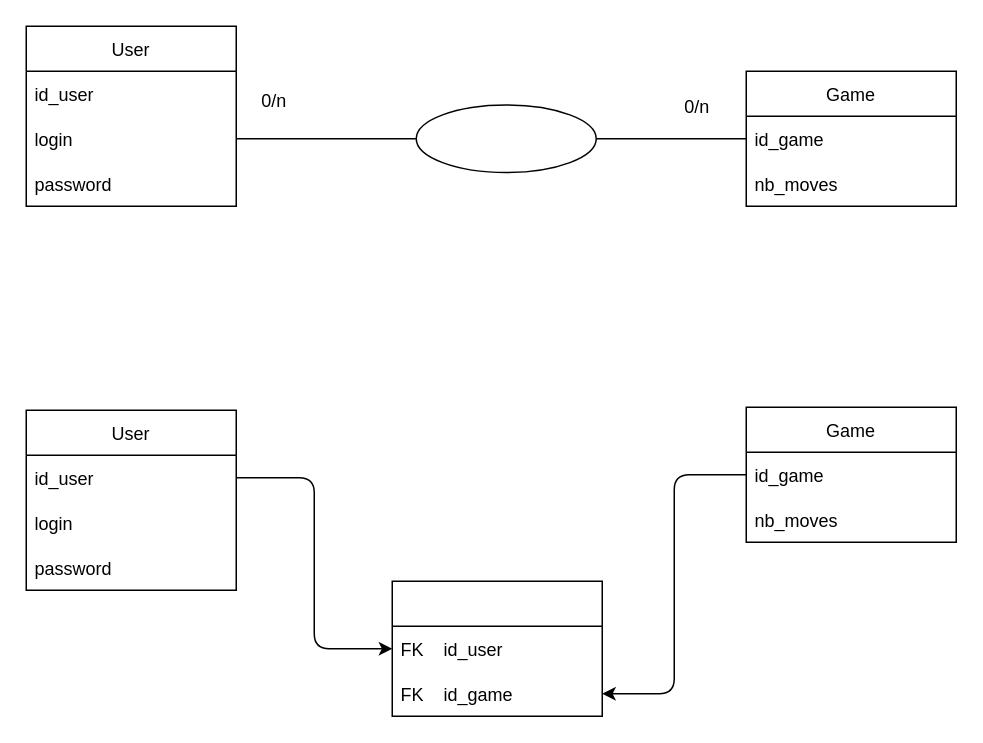
Some shapes in this 983 by 743 pixel diagram are drawn without their labels. The shapes that lost their labels are listed below. From the top down, each one's box as (x1, y1, x2, y2) in pixels, then its label:
(415, 104, 596, 172): Have
(391, 580, 602, 716): User_game
